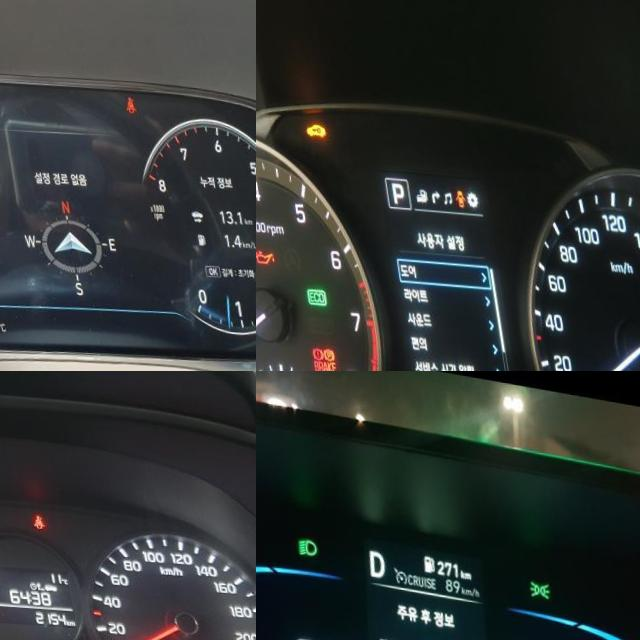Doors: (447, 182, 459, 202)
Low beam: (289, 533, 311, 554)
SideLamp: (519, 572, 544, 593)
